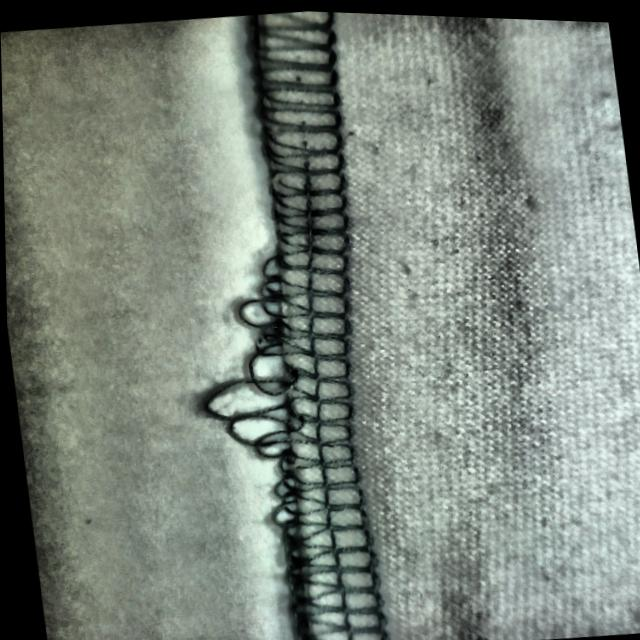Stitch: (178, 242, 401, 640)
